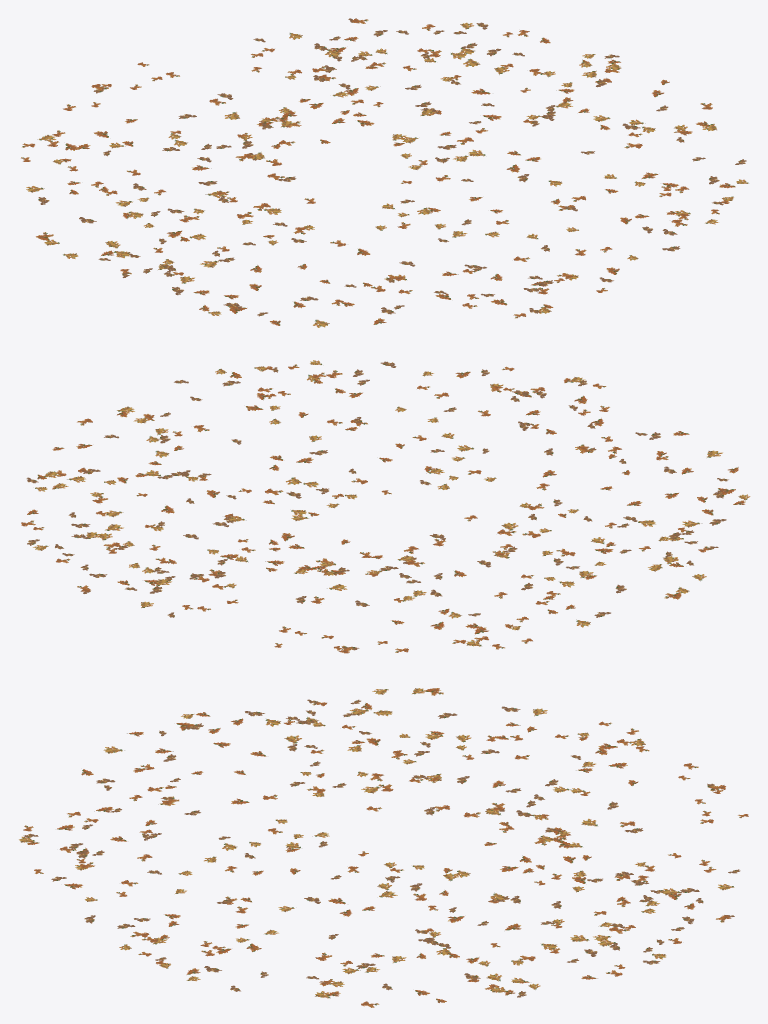
Rendered from hetre_adulte_a.fbx.
3 renders of one model, top to bottom at view 1: azimuth 30°, elevation 25°; view 2: azimuth 150°, elevation 25°; view 3: azimuth 270°, elevation 25°, orthographic. The views are drawn at different scales.
Parts seen in each view (by area): view 1: hetre_adulte_a_feuilles_sol; view 2: hetre_adulte_a_feuilles_sol; view 3: hetre_adulte_a_feuilles_sol.
Boxes of the visible parts, x1,y1,x2,y2 form: hetre_adulte_a_feuilles_sol: [21, 18, 748, 327]; hetre_adulte_a_feuilles_sol: [21, 360, 750, 653]; hetre_adulte_a_feuilles_sol: [19, 688, 748, 1007].
Size of what is drawn, in the model's own units: 14.65 by 0.00599 by 14.11.
